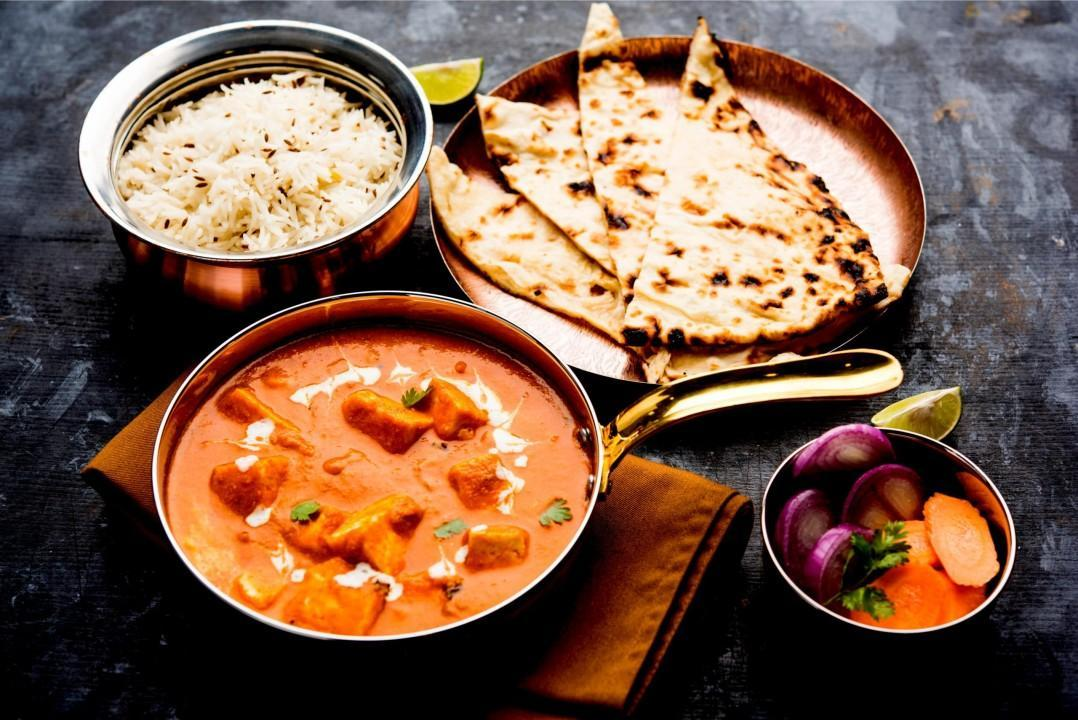paneer: (211, 378, 520, 614)
